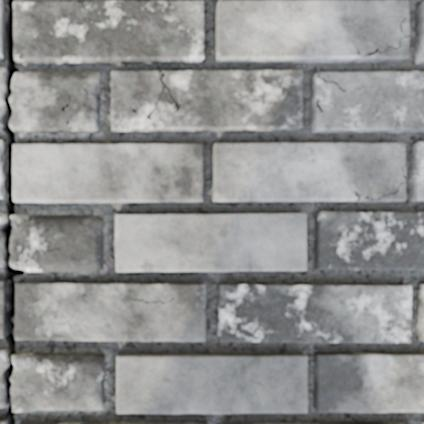brick: (14, 0, 203, 64), (216, 0, 408, 62), (111, 70, 301, 131), (117, 354, 306, 413), (212, 143, 404, 201), (116, 213, 306, 271), (218, 284, 411, 341), (13, 144, 202, 202), (15, 283, 204, 340), (311, 71, 423, 132), (314, 353, 423, 411), (315, 212, 423, 269), (410, 142, 423, 200), (415, 2, 423, 63), (380, 185, 405, 201), (417, 284, 423, 339), (0, 281, 5, 336), (0, 0, 4, 58), (21, 422, 206, 423), (0, 140, 3, 197), (262, 422, 408, 423), (0, 418, 7, 423), (232, 422, 258, 423)
broken_brick: (12, 352, 105, 412), (10, 71, 100, 133), (11, 214, 104, 272), (0, 348, 6, 408), (0, 210, 5, 268), (0, 66, 4, 119)
crack: (0, 0, 25, 423), (353, 164, 406, 201), (146, 69, 180, 121), (355, 34, 410, 58), (316, 72, 346, 92), (83, 88, 100, 100)
